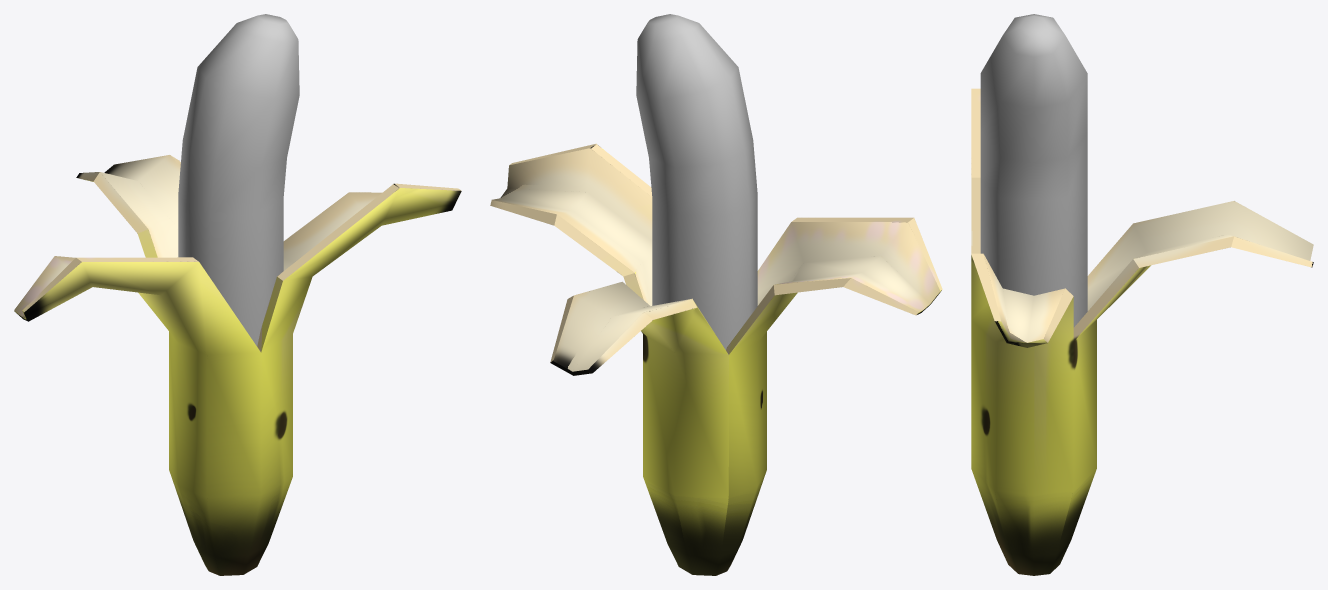
File: banana.fbx
3 renders of one model, left to right at view 1: azimuth 30°, elevation 25°; view 2: azimuth 150°, elevation 25°; view 3: azimuth 270°, elevation 25°, orthographic. The views are drawn at different scales.
Parts seen in each view (by area): view 1: Cube.001, Cube; view 2: Cube.001, Cube; view 3: Cube.001, Cube.
Part boxes in pixels (x1,y1,x2,y2): Cube.001: (14, 155, 461, 575); Cube: (178, 14, 299, 346); Cube.001: (490, 143, 942, 575); Cube: (636, 14, 757, 349); Cube.001: (971, 88, 1313, 575); Cube: (980, 14, 1087, 327).
Bounding box in the file's own units: 977 × 1163 × 641.
